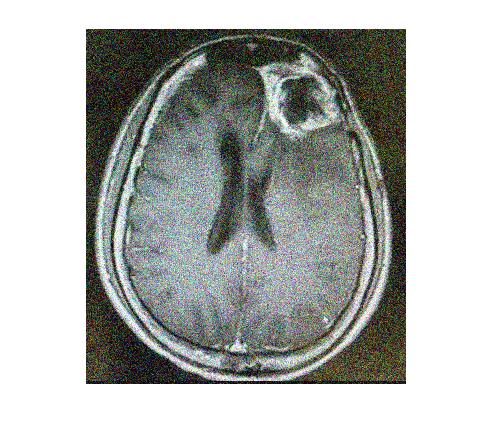Brain_Cancer: (256, 47, 353, 137)
